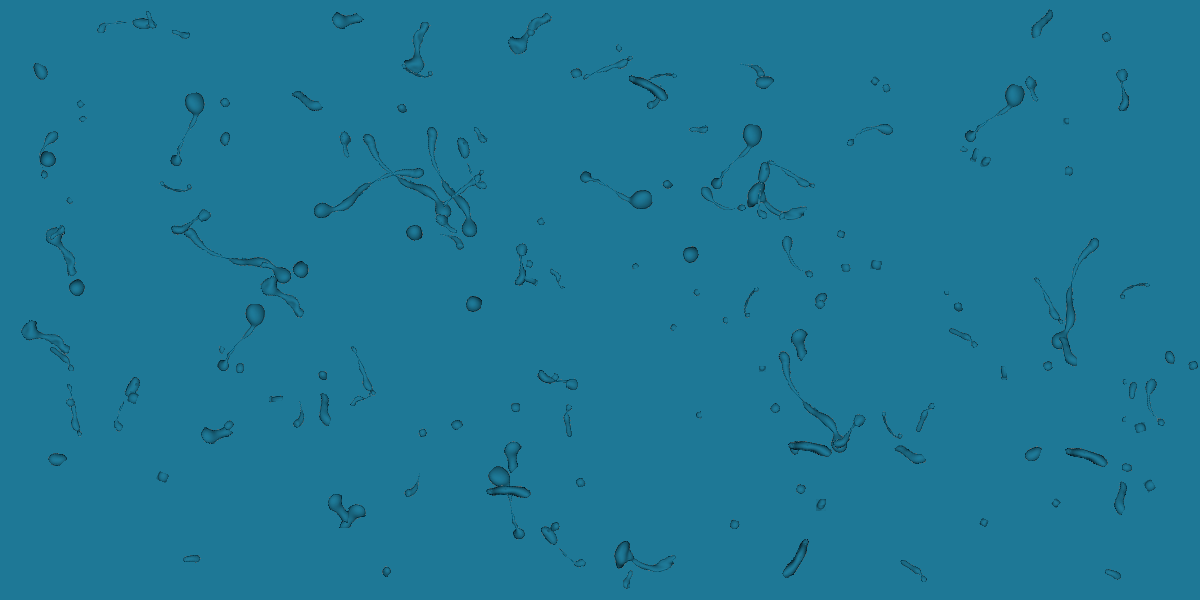Detached ligament: (757, 347, 867, 461), (346, 129, 468, 227), (402, 123, 499, 245), (306, 143, 428, 240), (175, 223, 301, 290), (467, 461, 553, 545), (1046, 232, 1103, 357), (961, 74, 1029, 157), (156, 90, 219, 171), (605, 525, 680, 588), (576, 161, 654, 220), (709, 120, 765, 197), (216, 302, 267, 376), (741, 176, 809, 226), (35, 220, 90, 280), (502, 3, 556, 64), (839, 110, 896, 165), (252, 271, 313, 322), (1131, 376, 1184, 434), (771, 233, 829, 285), (537, 523, 589, 574), (439, 164, 489, 215), (1025, 273, 1070, 329), (15, 317, 75, 358), (484, 468, 533, 516), (786, 424, 834, 473), (342, 342, 382, 400), (579, 49, 637, 89), (1063, 432, 1110, 481), (167, 199, 213, 246), (453, 135, 489, 195), (108, 374, 143, 435), (761, 157, 820, 193), (627, 64, 670, 111), (773, 537, 820, 580), (31, 130, 67, 185), (1103, 67, 1142, 115), (58, 380, 88, 440), (830, 408, 867, 456), (403, 21, 433, 77), (503, 242, 538, 289), (549, 402, 588, 442), (700, 185, 752, 215), (492, 436, 531, 475), (780, 324, 818, 363), (327, 2, 366, 40), (196, 417, 235, 454), (893, 437, 929, 474), (905, 401, 943, 436), (945, 318, 980, 355), (291, 83, 325, 121), (1022, 8, 1060, 41), (1104, 480, 1137, 518), (535, 366, 579, 393), (874, 408, 905, 445), (897, 552, 929, 587), (94, 16, 155, 34), (310, 392, 339, 429), (1016, 74, 1049, 106), (754, 161, 771, 222), (737, 54, 769, 86), (330, 129, 361, 162), (323, 491, 353, 525), (437, 225, 468, 257), (639, 82, 671, 113), (397, 470, 429, 501), (1115, 275, 1153, 301), (47, 341, 76, 374), (737, 282, 762, 320), (284, 399, 313, 431), (397, 61, 435, 84), (336, 502, 368, 529), (642, 66, 680, 88), (432, 213, 462, 237), (156, 179, 194, 197), (1058, 336, 1078, 369), (180, 546, 205, 571), (1120, 377, 1145, 402), (1102, 562, 1126, 586), (139, 8, 162, 32), (468, 124, 492, 146), (47, 221, 68, 245), (687, 120, 711, 139), (549, 265, 566, 291), (347, 391, 373, 407), (170, 27, 192, 41), (622, 569, 634, 590), (523, 275, 539, 287), (969, 147, 980, 163), (268, 394, 284, 403), (999, 365, 1008, 381)
drop: (64, 276, 89, 301), (288, 258, 313, 283), (45, 446, 69, 470), (752, 69, 776, 93), (28, 61, 51, 83), (462, 293, 484, 315), (403, 221, 425, 243), (679, 244, 701, 266), (1022, 442, 1043, 464), (38, 150, 58, 170), (216, 129, 235, 148), (786, 438, 805, 457), (768, 401, 784, 417), (813, 291, 830, 306), (449, 417, 465, 432), (660, 178, 676, 193), (378, 564, 393, 580), (1142, 478, 1157, 493), (217, 95, 232, 110), (221, 418, 236, 433), (1163, 349, 1177, 365), (569, 66, 584, 80), (155, 470, 170, 484), (126, 390, 140, 405), (573, 475, 587, 490), (728, 518, 743, 532), (395, 102, 409, 117), (1099, 30, 1113, 44), (1133, 421, 1148, 434), (979, 155, 992, 169), (794, 483, 807, 497), (547, 520, 561, 533), (73, 98, 86, 111), (814, 298, 827, 311), (64, 396, 77, 409), (869, 259, 883, 271), (1042, 360, 1054, 374), (952, 301, 964, 315), (1187, 359, 1200, 371), (534, 216, 546, 228), (550, 372, 562, 384), (1050, 497, 1062, 509), (869, 75, 881, 87), (510, 402, 521, 415), (317, 370, 328, 383), (1120, 462, 1133, 473), (978, 517, 990, 528), (835, 229, 847, 240), (417, 427, 428, 439), (881, 82, 892, 94), (235, 362, 245, 375), (691, 288, 702, 299), (667, 322, 678, 333), (64, 196, 75, 207), (258, 259, 269, 270), (613, 43, 624, 54), (77, 113, 88, 124), (525, 259, 536, 270), (775, 211, 786, 222), (959, 145, 970, 156), (816, 499, 826, 511), (629, 261, 640, 271), (216, 345, 226, 356), (841, 263, 851, 273), (1064, 166, 1074, 176), (694, 411, 703, 421), (526, 29, 535, 38), (721, 316, 729, 326), (416, 228, 424, 238), (1062, 117, 1070, 126), (758, 365, 767, 373), (1120, 377, 1128, 386), (1120, 415, 1127, 423), (942, 290, 950, 297)
